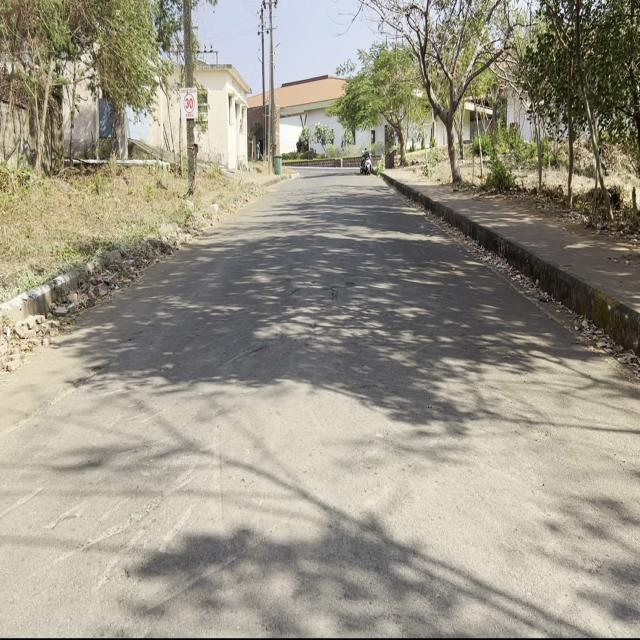Road: (4, 177, 637, 631)
